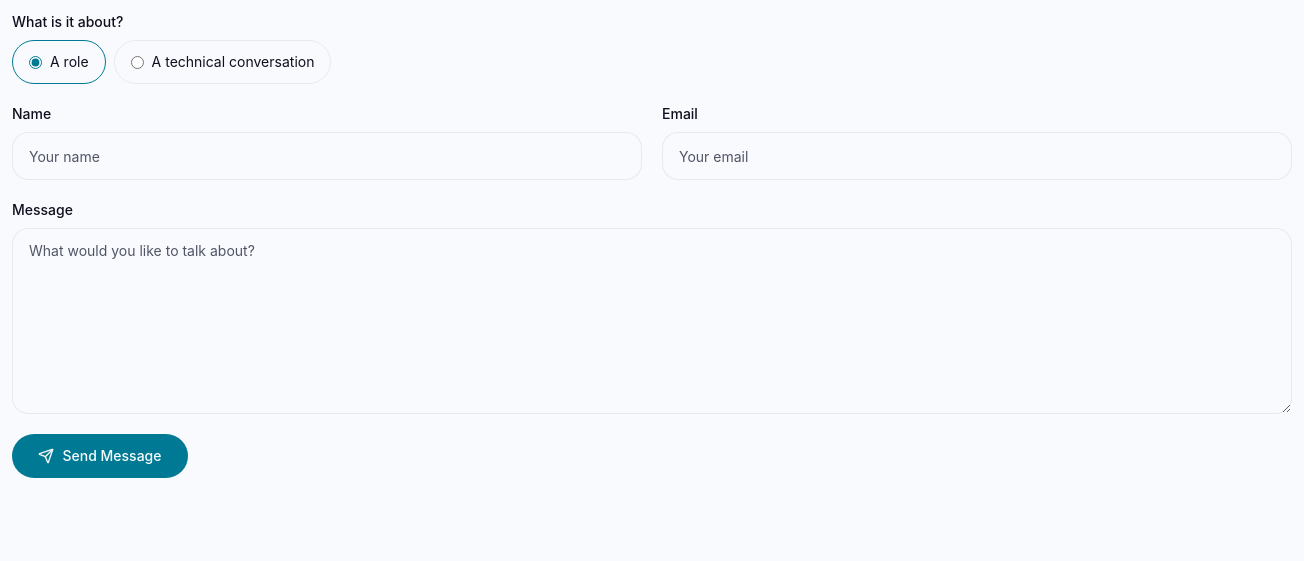
Test: ContactForm › keeps the message and offers a retry when sending fails
Type "Ada" into the field labelled "Name" at point(327, 156), box [12, 132, 642, 180]
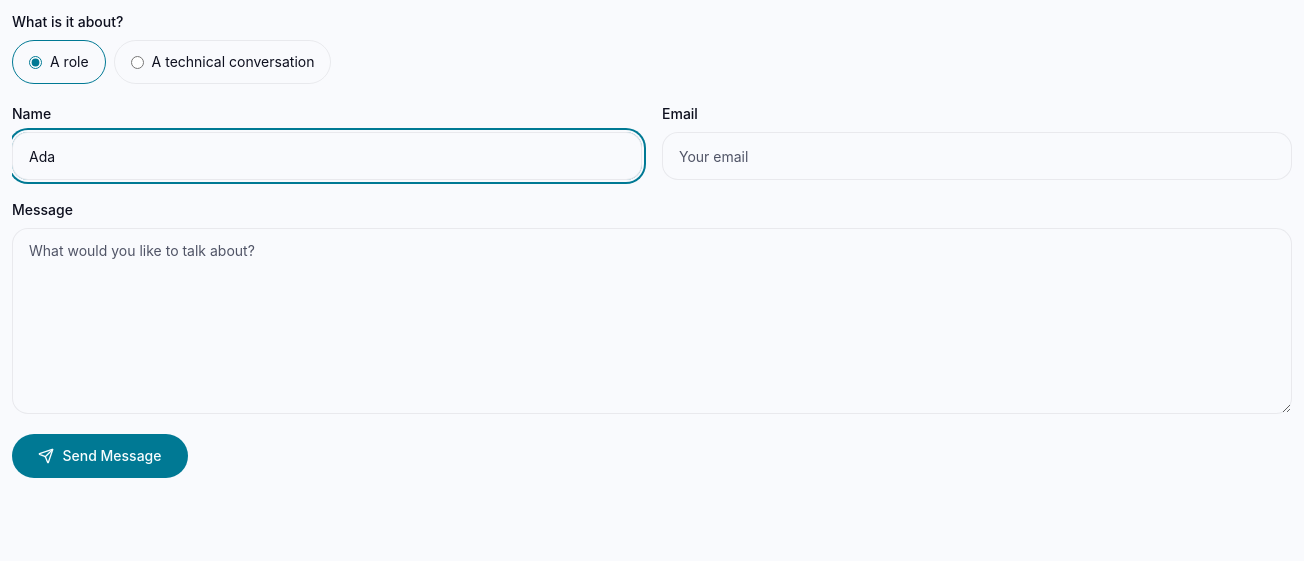
Type "ada@example.com" into the field labelled "Email" at point(977, 156), box [662, 132, 1292, 180]
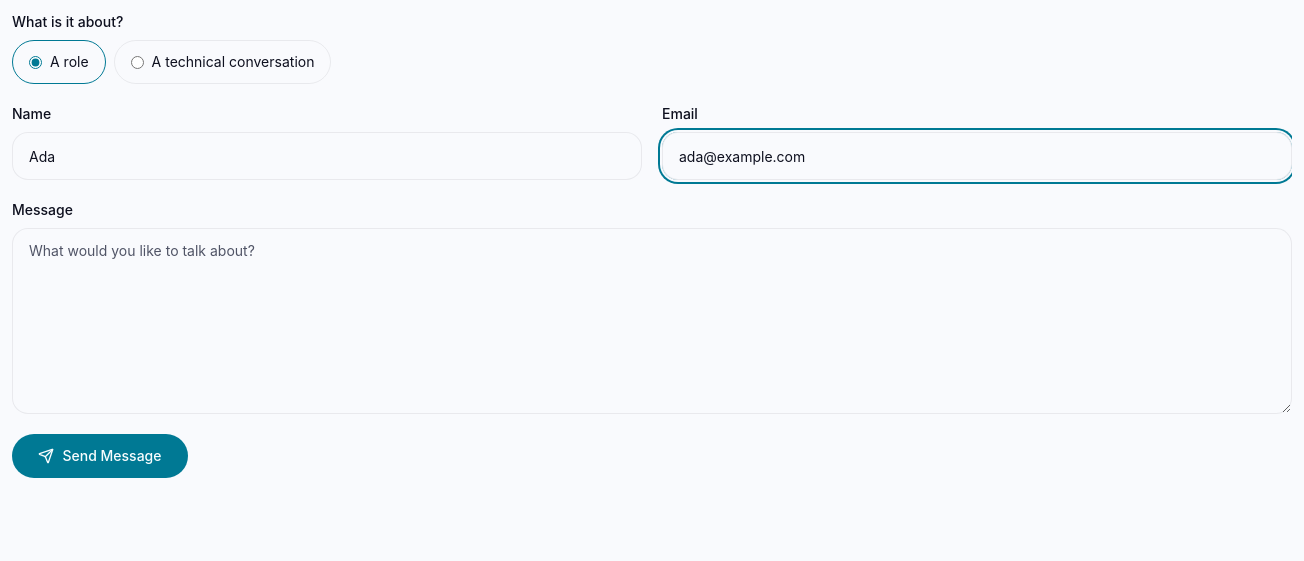
Type "We need help moving our checkout to services." into the text box labelled "Message" at point(652, 321), box [12, 228, 1292, 414]
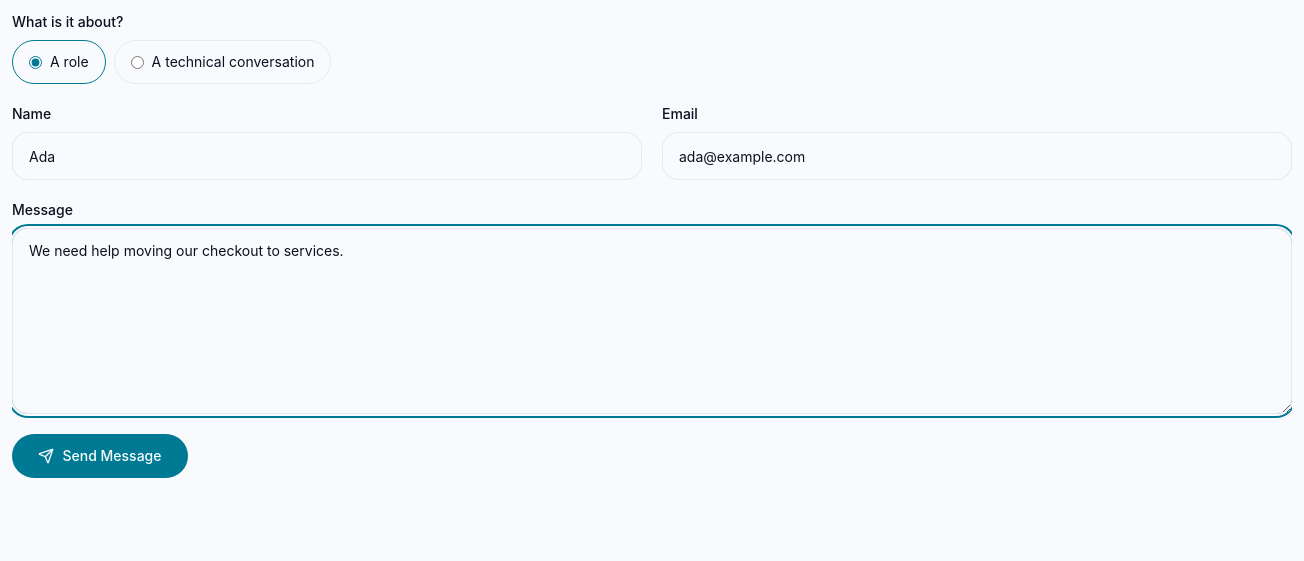
Click the button "Send Message" at point(100, 456), box [12, 434, 188, 478]
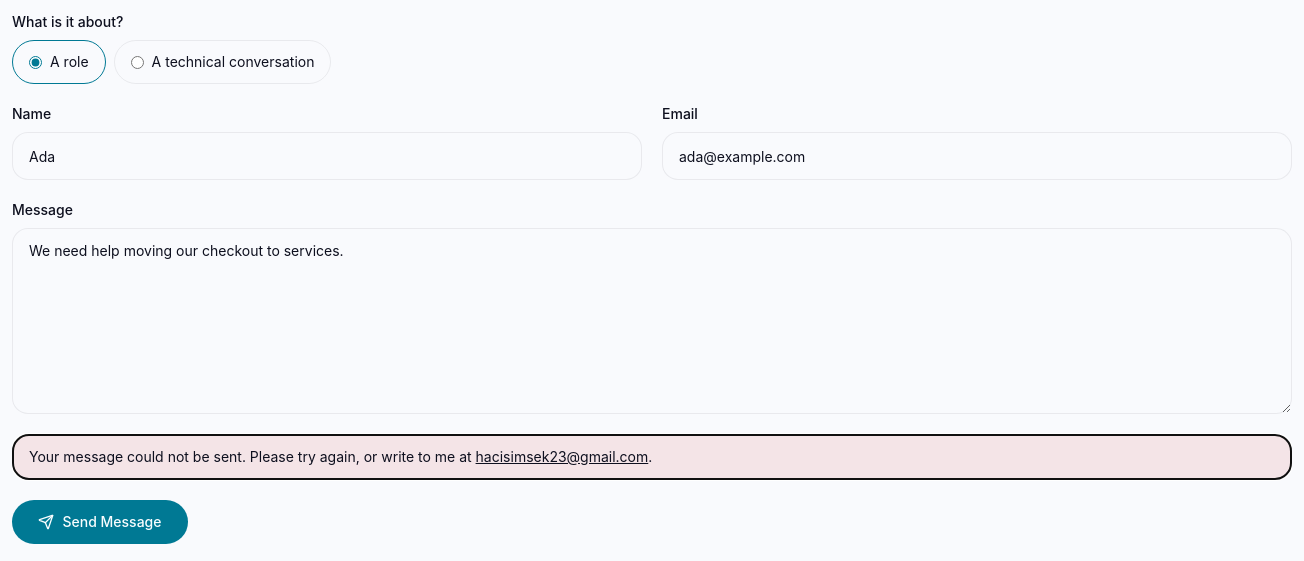
Result: the message shows "could not be sent" at [29, 448, 476, 465]
